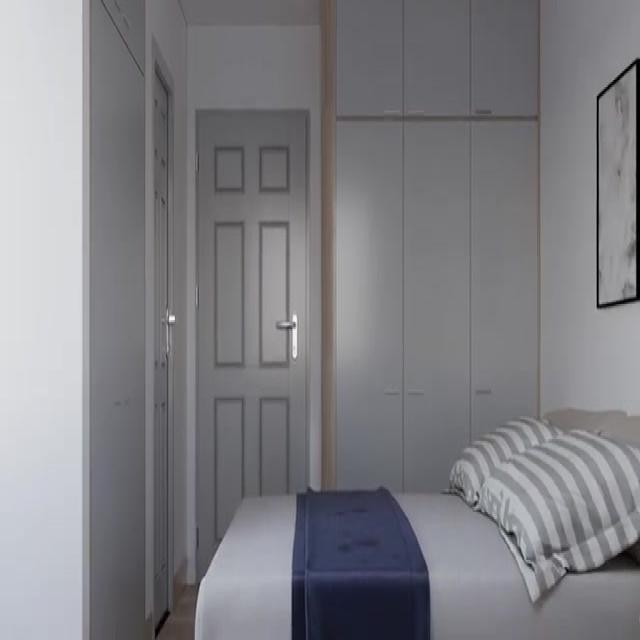door: (195, 107, 309, 581), (152, 39, 174, 639)
obstacle: (194, 406, 639, 638)
